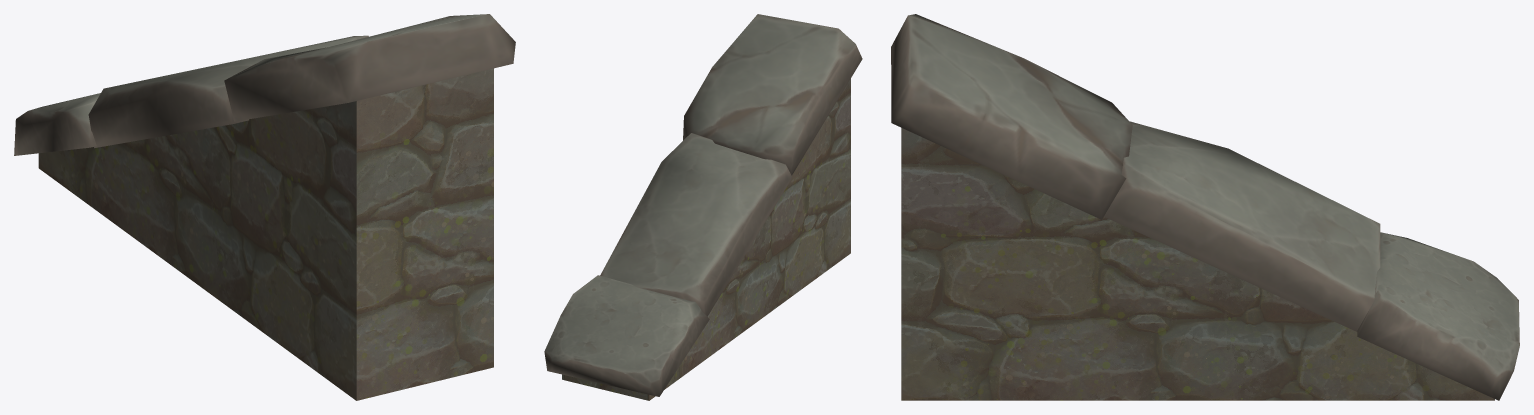
File: SM_FW01_Ruins_Int_Wall_Stairs_2x1_03.fbx
3 renders of one model, left to right at view 1: azimuth 30°, elevation 25°; view 2: azimuth 150°, elevation 25°; view 3: azimuth 270°, elevation 25°, orthographic. The views are drawn at different scales.
Parts seen in each view (by area): view 1: SM_FW01_Ruins_Int_Wall_Stairs_2x1_03; view 2: SM_FW01_Ruins_Int_Wall_Stairs_2x1_03; view 3: SM_FW01_Ruins_Int_Wall_Stairs_2x1_03.
Part boxes in pixels (x1,y1,x2,y2): SM_FW01_Ruins_Int_Wall_Stairs_2x1_03: (14, 14, 515, 400); SM_FW01_Ruins_Int_Wall_Stairs_2x1_03: (544, 14, 862, 400); SM_FW01_Ruins_Int_Wall_Stairs_2x1_03: (891, 14, 1519, 400).
Bounding box in the file's own units: 0.6717 × 1.23 × 2.12.
